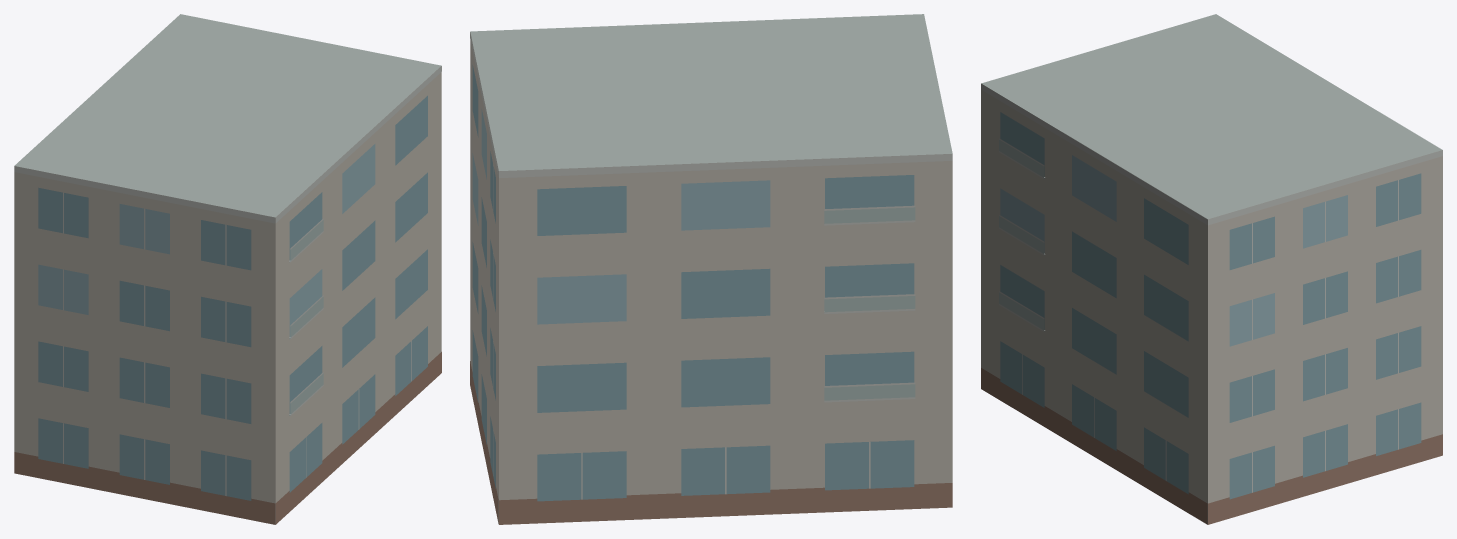
File: survey-upis-32619276.glb
3 views of the same model, side by side, from view 1: azimuth 30°, elevation 25°; view 2: azimuth 150°, elevation 25°; view 3: azimuth 270°, elevation 25° (orthographic). The views are drawn at different scales.
Parts seen in each view (by area): view 1: survey-upis-32619276.tmp; view 2: survey-upis-32619276.tmp; view 3: survey-upis-32619276.tmp.
Part boxes in pixels (bbox=[...]): survey-upis-32619276.tmp: bbox=[14, 14, 441, 524]; survey-upis-32619276.tmp: bbox=[470, 14, 952, 524]; survey-upis-32619276.tmp: bbox=[981, 14, 1442, 524].
Bounding box in the file's own units: 17.67 × 12.25 × 16.79.
